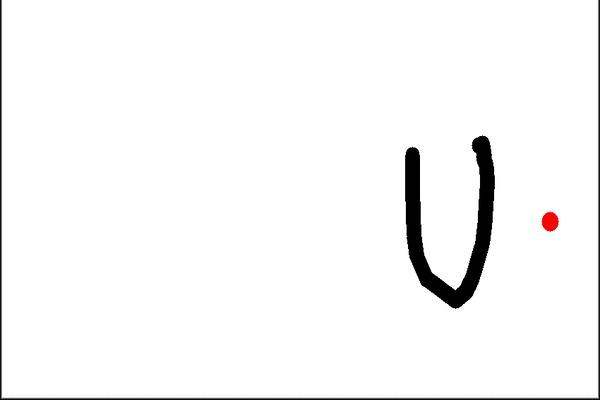U: (397, 127, 512, 311)
